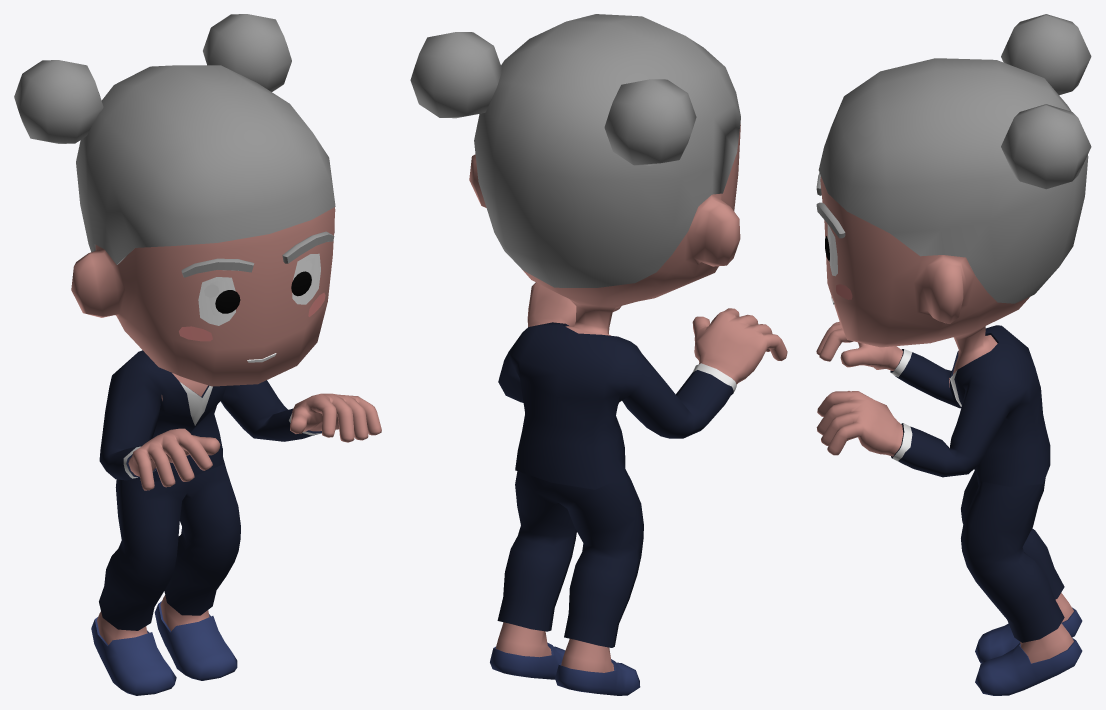
Rendered from Personaje_juzgado.fbx.
3 renders of one model, left to right at view 1: azimuth 30°, elevation 25°; view 2: azimuth 150°, elevation 25°; view 3: azimuth 270°, elevation 25°, orthographic. The views are drawn at different scales.
Visible parts, largest first — view 1: hair4.005, body.028, pants1.016, shirt3.022, shoes2.009, eyes7.002, eyebrows1.022, eyes6.016, cheeks.010; view 2: hair4.005, shirt3.022, pants1.016, body.028, shoes2.009; view 3: hair4.005, body.028, shirt3.022, pants1.016, shoes2.009, eyebrows1.022.
Boxes of the visible parts, box(x1,y1,x2,y2) form: hair4.005: box(14, 14, 335, 264); body.028: box(71, 207, 381, 644); pants1.016: box(99, 457, 240, 630); shirt3.022: box(99, 350, 321, 481); shoes2.009: box(91, 601, 237, 695); eyes7.002: box(198, 253, 320, 325); eyebrows1.022: box(181, 231, 334, 277); eyes6.016: box(215, 271, 311, 313); cheeks.010: box(179, 292, 325, 341); hair4.005: box(410, 14, 740, 287); shirt3.022: box(498, 322, 736, 489); pants1.016: box(497, 469, 643, 647); body.028: box(469, 123, 787, 672); shoes2.009: box(490, 642, 640, 695); hair4.005: box(818, 14, 1091, 303); body.028: box(816, 176, 1073, 663); shirt3.022: box(890, 325, 1050, 486); pants1.016: box(961, 470, 1064, 642); shoes2.009: box(975, 607, 1082, 695); eyebrows1.022: box(816, 172, 845, 238).
Bounding box in the file's own units: 77.9 × 173 × 70.53.
